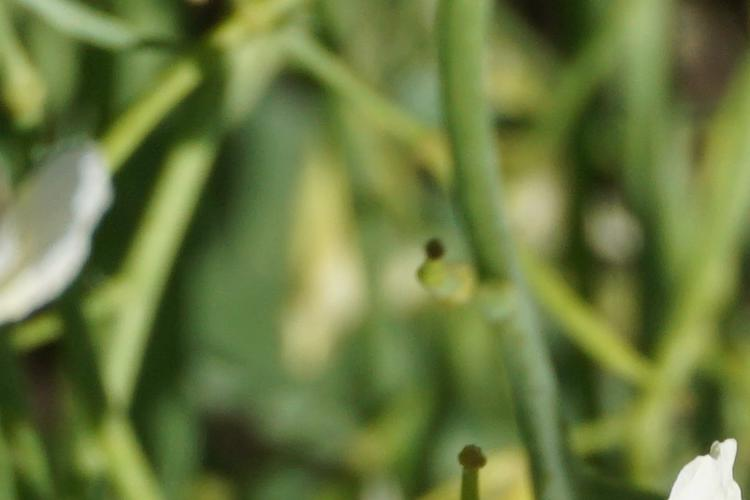pod: (388, 219, 566, 346), (439, 435, 512, 500)
white: (3, 127, 129, 322), (667, 428, 742, 500)
